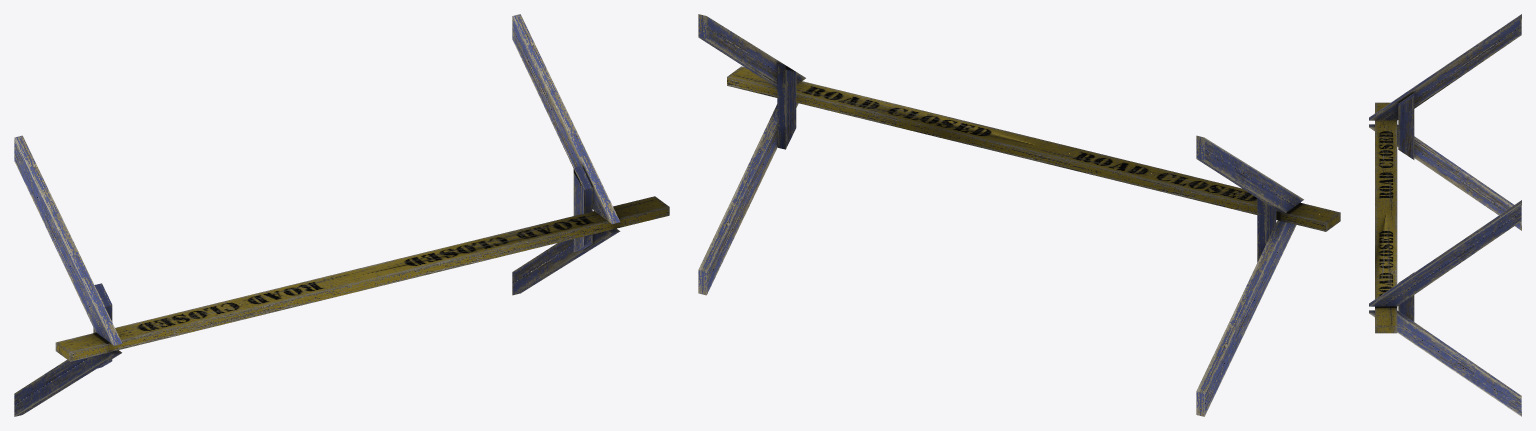
File: barrier_wooden.fbx
The picture shows the model from 3 angles, left to right: view 1: azimuth 30°, elevation 25°; view 2: azimuth 150°, elevation 25°; view 3: azimuth 270°, elevation 25°; orthographic projection. The views are drawn at different scales.
Parts seen in each view (by area): view 1: barrierwooden; view 2: barrierwooden; view 3: barrierwooden.
Boxes of the visible parts, box(x1,y1,x2,y2) form: barrierwooden: box(14, 14, 669, 416); barrierwooden: box(698, 14, 1340, 416); barrierwooden: box(1369, 14, 1521, 416).
Bounding box in the file's own units: 3.43 × 1.53 × 0.99.
